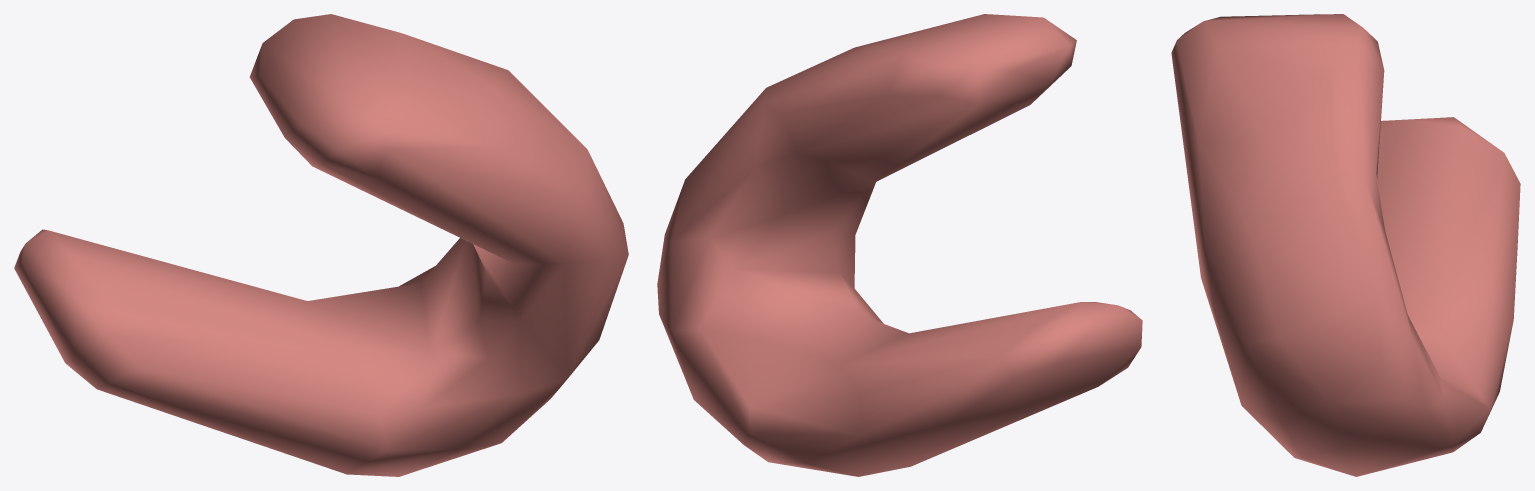
3 renders of one model, left to right at view 1: azimuth 30°, elevation 25°; view 2: azimuth 150°, elevation 25°; view 3: azimuth 270°, elevation 25°, orthographic. The views are drawn at different scales.
Visible parts, largest first — view 1: ZA_d035fdf1a29f0c15; view 2: ZA_d035fdf1a29f0c15; view 3: ZA_d035fdf1a29f0c15.
Boxes of the visible parts, x1,y1,x2,y2 form: ZA_d035fdf1a29f0c15: [14, 14, 628, 476]; ZA_d035fdf1a29f0c15: [657, 14, 1142, 476]; ZA_d035fdf1a29f0c15: [1171, 14, 1520, 476].
Size of the model in its own units: 0.00422 by 0.00361 by 0.00294.
